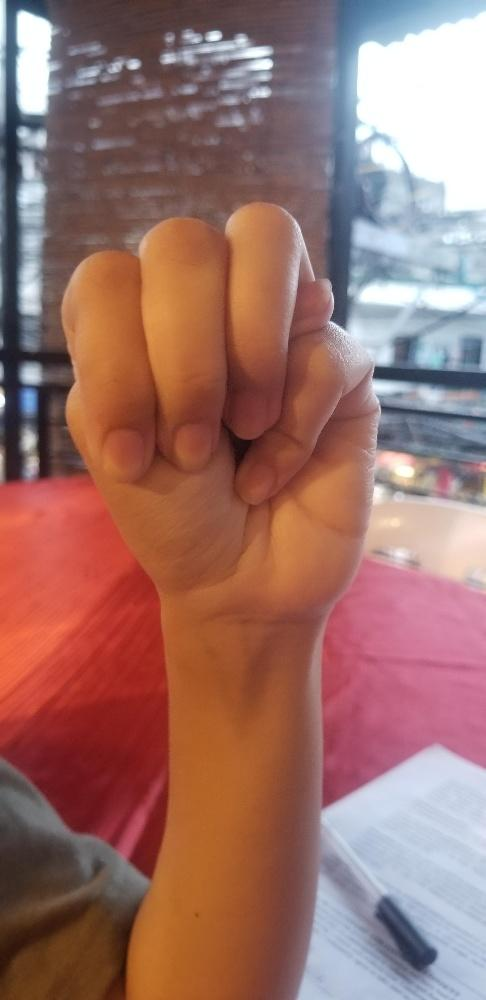m: (59, 200, 382, 614)
